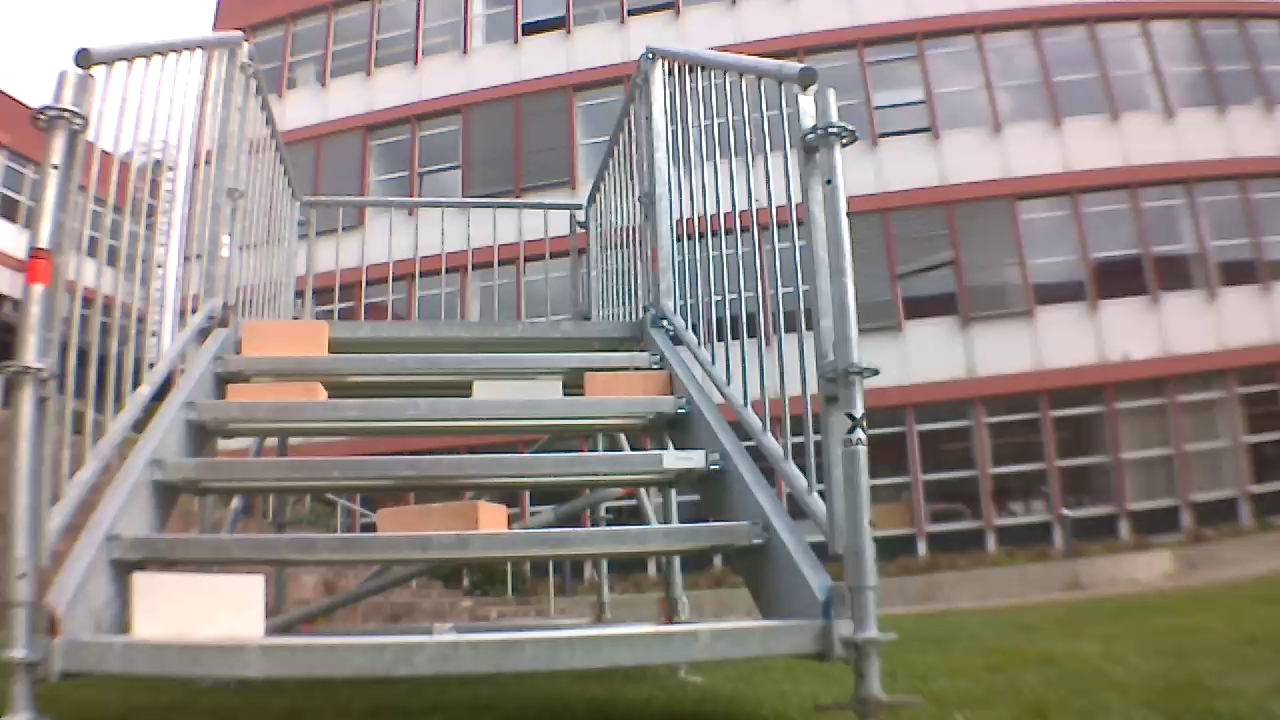brick: (124, 570, 276, 638), (367, 502, 506, 536), (236, 319, 329, 354), (580, 367, 671, 395), (472, 377, 564, 399), (221, 380, 336, 397)
edge: (51, 607, 826, 673), (96, 520, 764, 564), (147, 451, 723, 483), (171, 391, 691, 423), (208, 349, 669, 374), (239, 319, 645, 335)
stairs: (11, 23, 870, 705)
steps: (27, 313, 829, 678)
